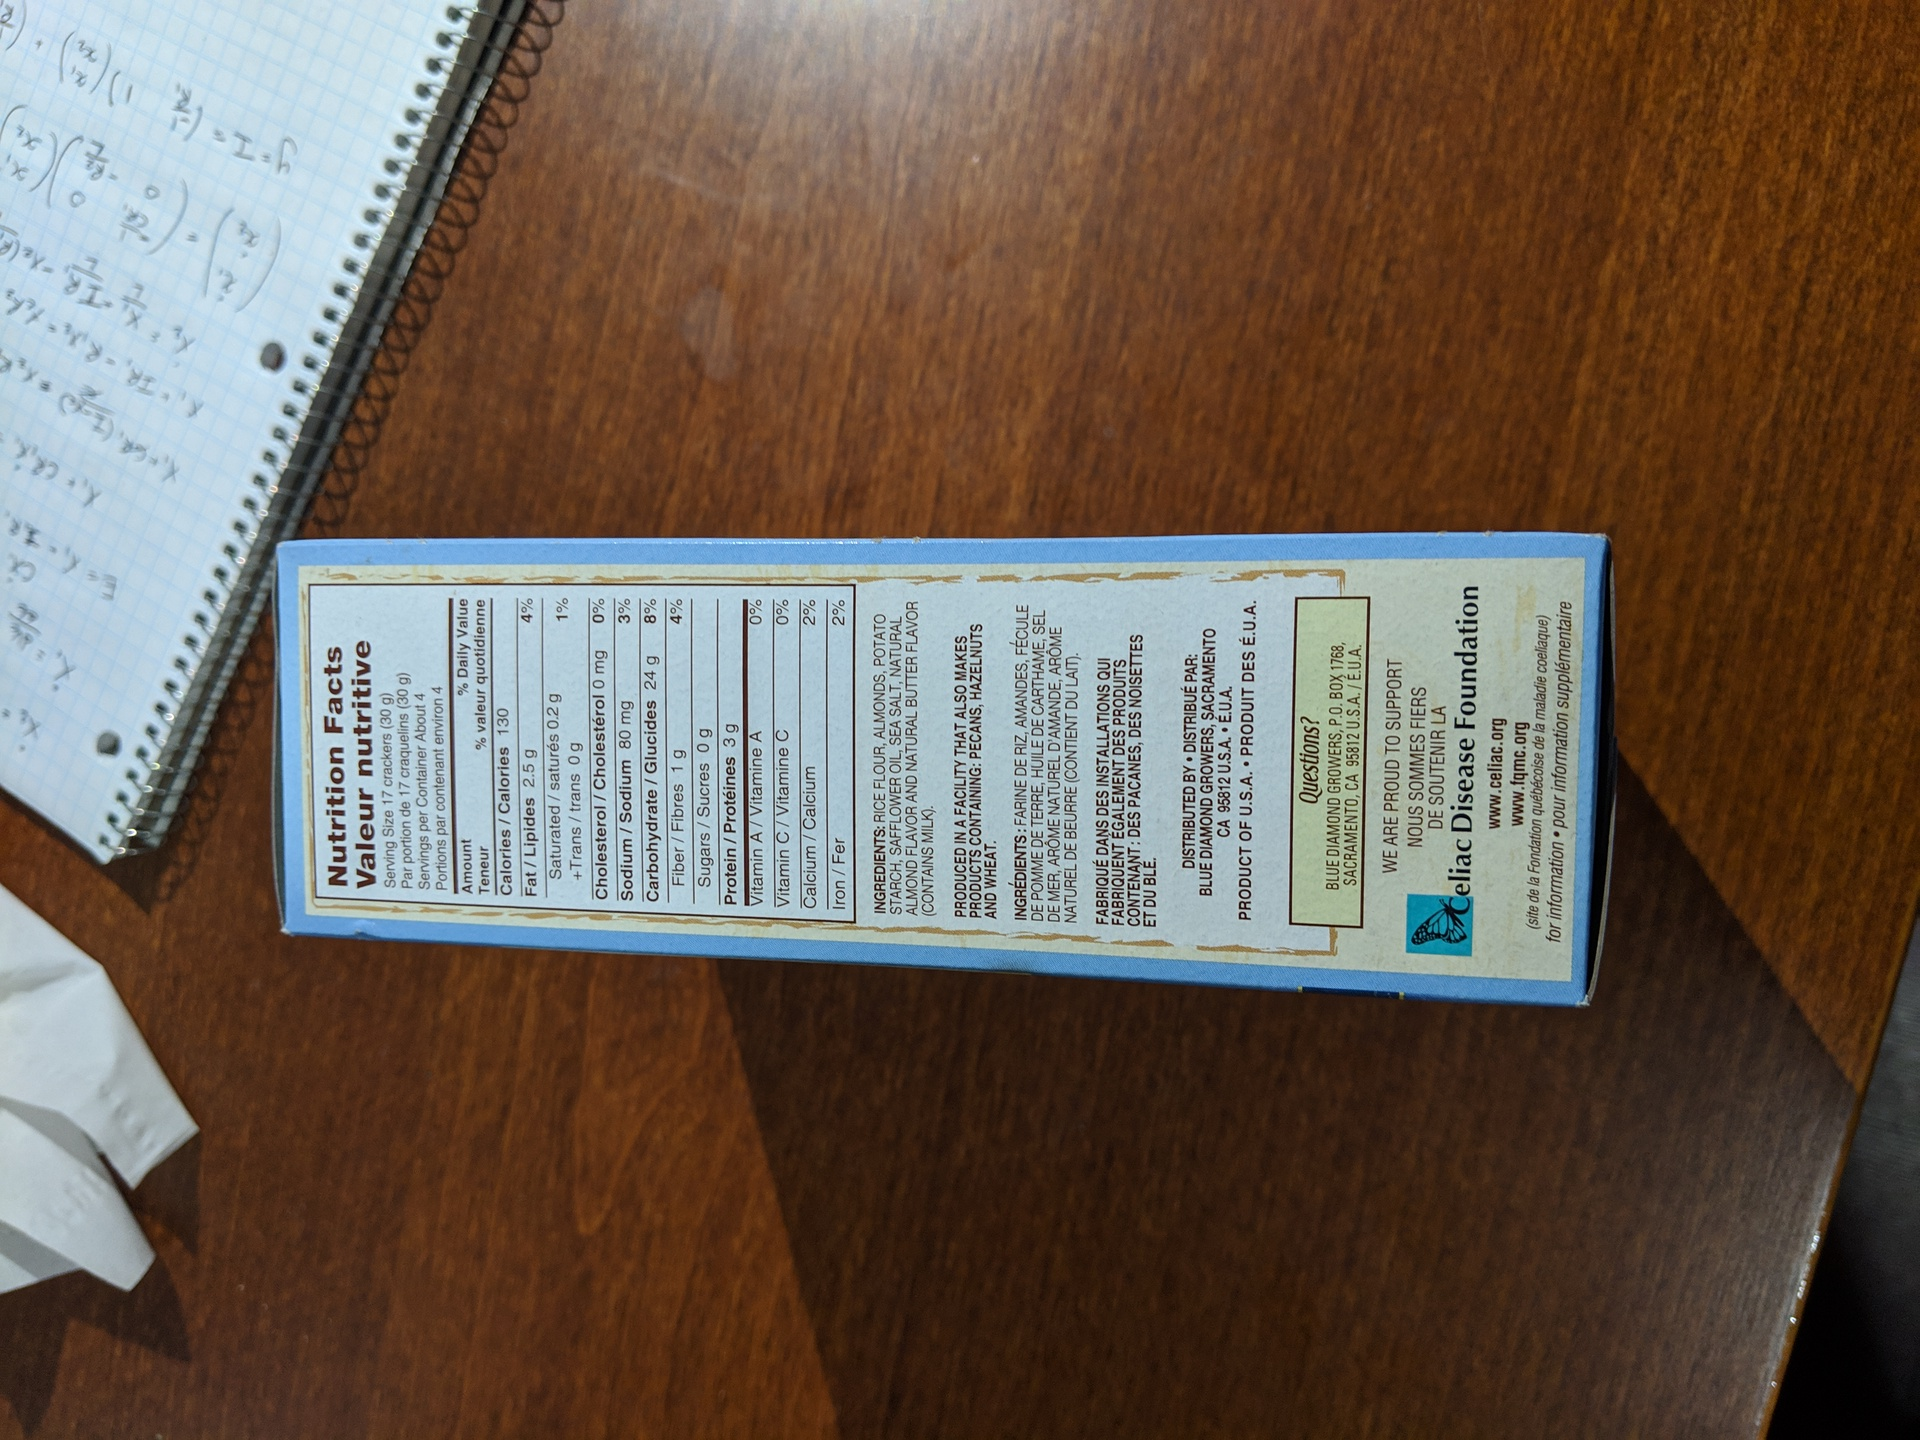blue_diamond_nut_thins_almond_seasalt: (274, 540, 1604, 967)
